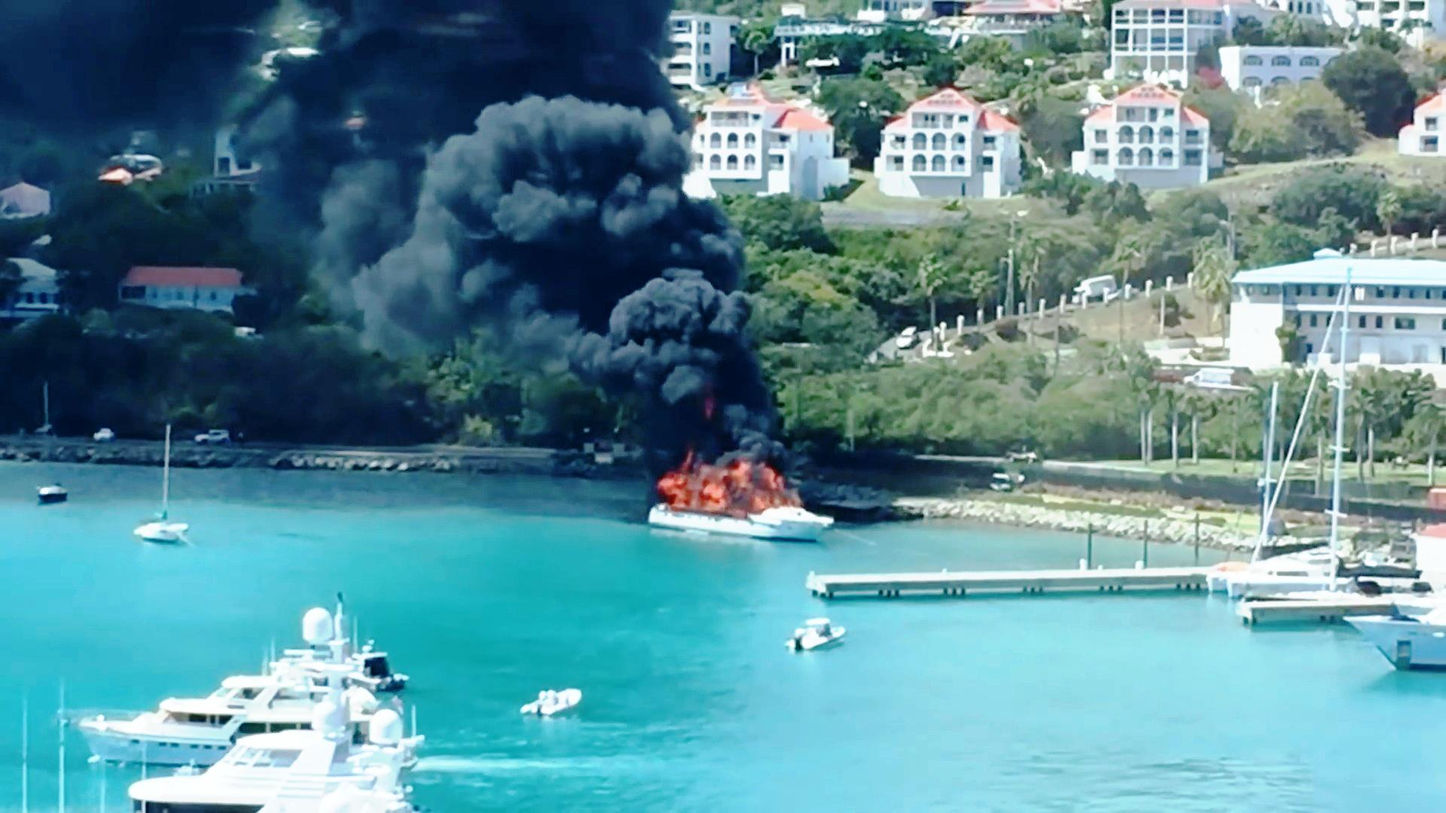fire: (674, 461, 795, 512)
smoke: (435, 89, 755, 383)
